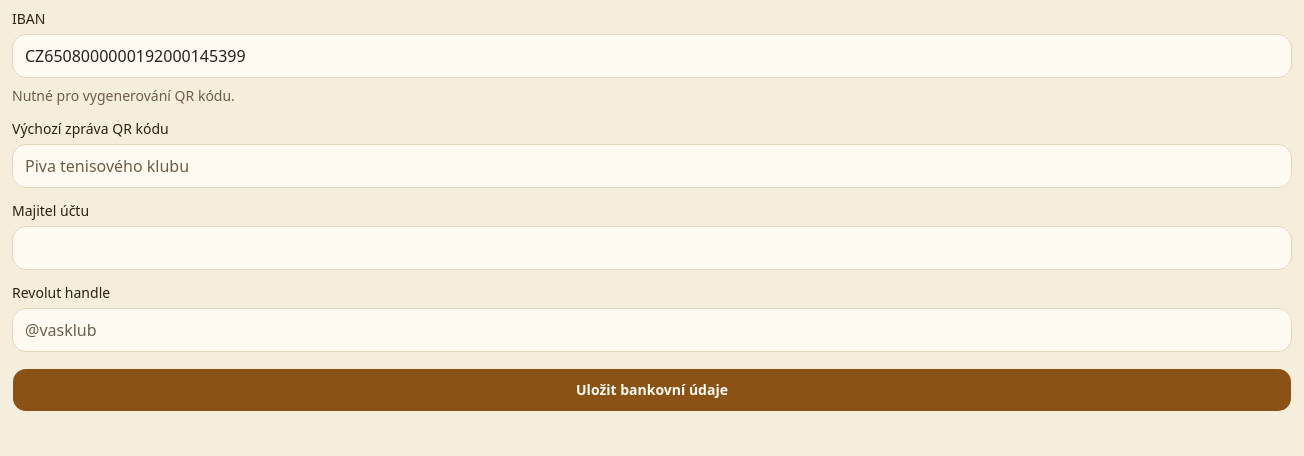
BankingForm › server INVALID_IBAN result surfaces the invalidIban error on the iban field
The width and height of the screenshot is (1304, 456).
Click the button at point(652, 390), box [12, 368, 1292, 412]
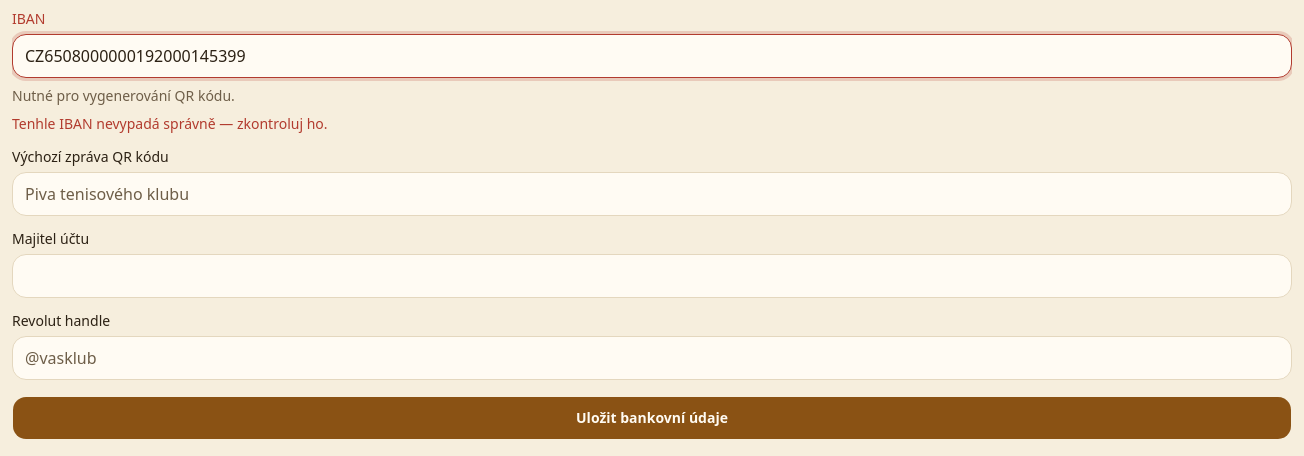
Check: the text "Tenhle IBAN nevypadá správně — zkontroluj ho." is shown, box [12, 114, 328, 133]
